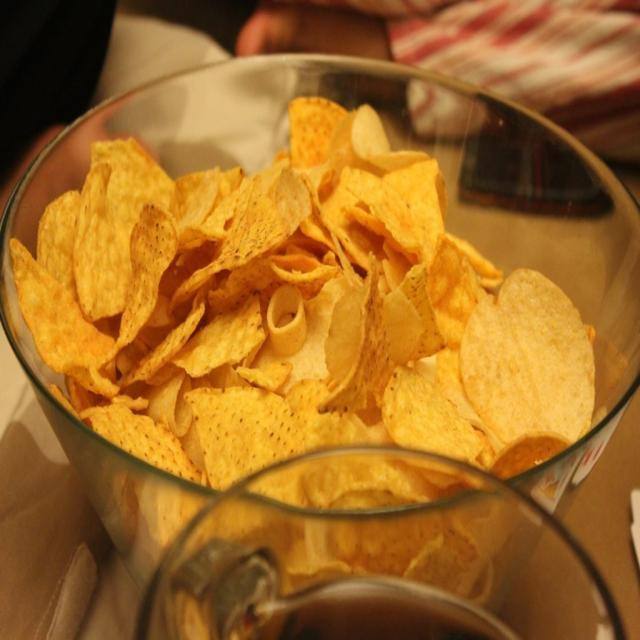Chips packaged: (11, 88, 603, 533)
